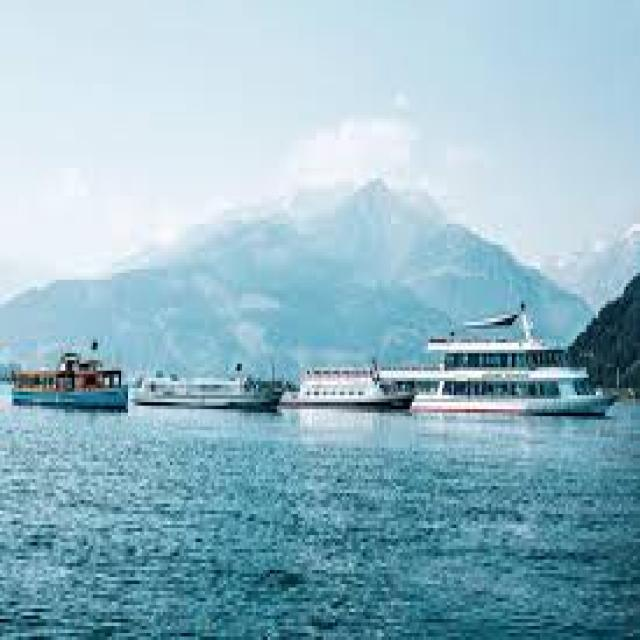passenger ship: (410, 315, 599, 416), (140, 343, 283, 441), (15, 316, 129, 418), (298, 347, 403, 409)
